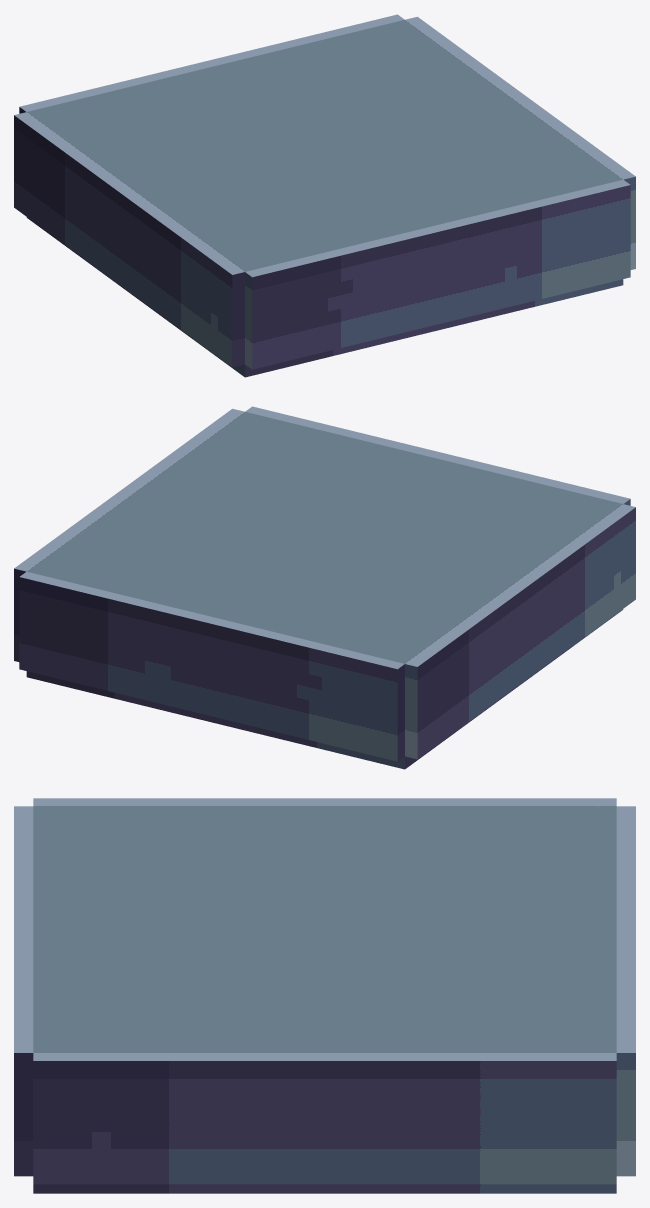
File: nutbolt_base_underao.fezao.glb
The picture shows the model from 3 angles, top to bottom: view 1: azimuth 30°, elevation 25°; view 2: azimuth 150°, elevation 25°; view 3: azimuth 270°, elevation 25°; orthographic projection. The views are drawn at different scales.
Visible parts, largest first — view 1: NUTBOLT_BASE_UNDERAO; view 2: NUTBOLT_BASE_UNDERAO; view 3: NUTBOLT_BASE_UNDERAO.
Boxes of the visible parts, x1,y1,x2,y2 form: NUTBOLT_BASE_UNDERAO: (14, 14, 635, 377); NUTBOLT_BASE_UNDERAO: (14, 406, 635, 769); NUTBOLT_BASE_UNDERAO: (14, 798, 635, 1193).
Bounding box in the file's own units: 2 × 0.5 × 2.
Materials: 1 (1 with a texture image).
